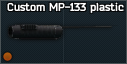MP-133 custom plastic forestock with rails: (0, 0, 127, 64)
